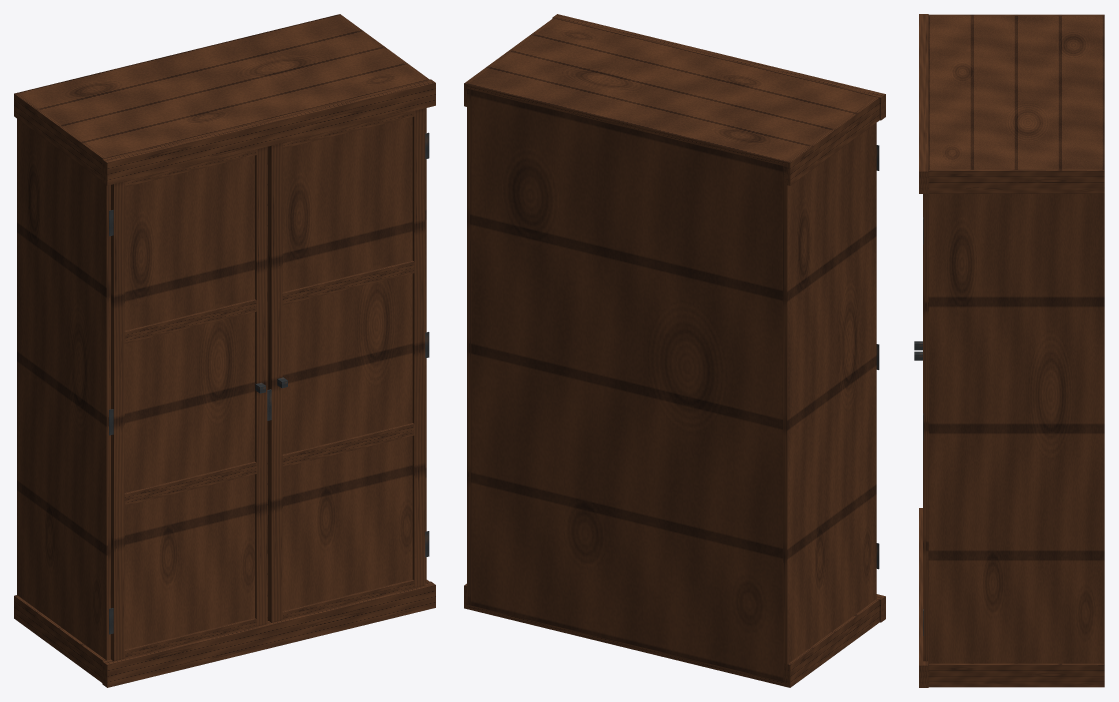
Rendered from wardrobe.obj.
3 views of the same model, side by side, from view 1: azimuth 30°, elevation 25°; view 2: azimuth 150°, elevation 25°; view 3: azimuth 270°, elevation 25° (orthographic).
Visible parts, largest first — view 1: material_5, material_4; view 2: material_5; view 3: material_5.
Part boxes in pixels (x1,y1,x2,y2): material_5: (14,14,435,687); material_4: (109,132,429,634); material_5: (464,14,885,687); material_5: (919,14,1104,687).
Bounding box in the file's own units: 43.39 × 66.24 × 22.16.
2 materials, 2 textured.
